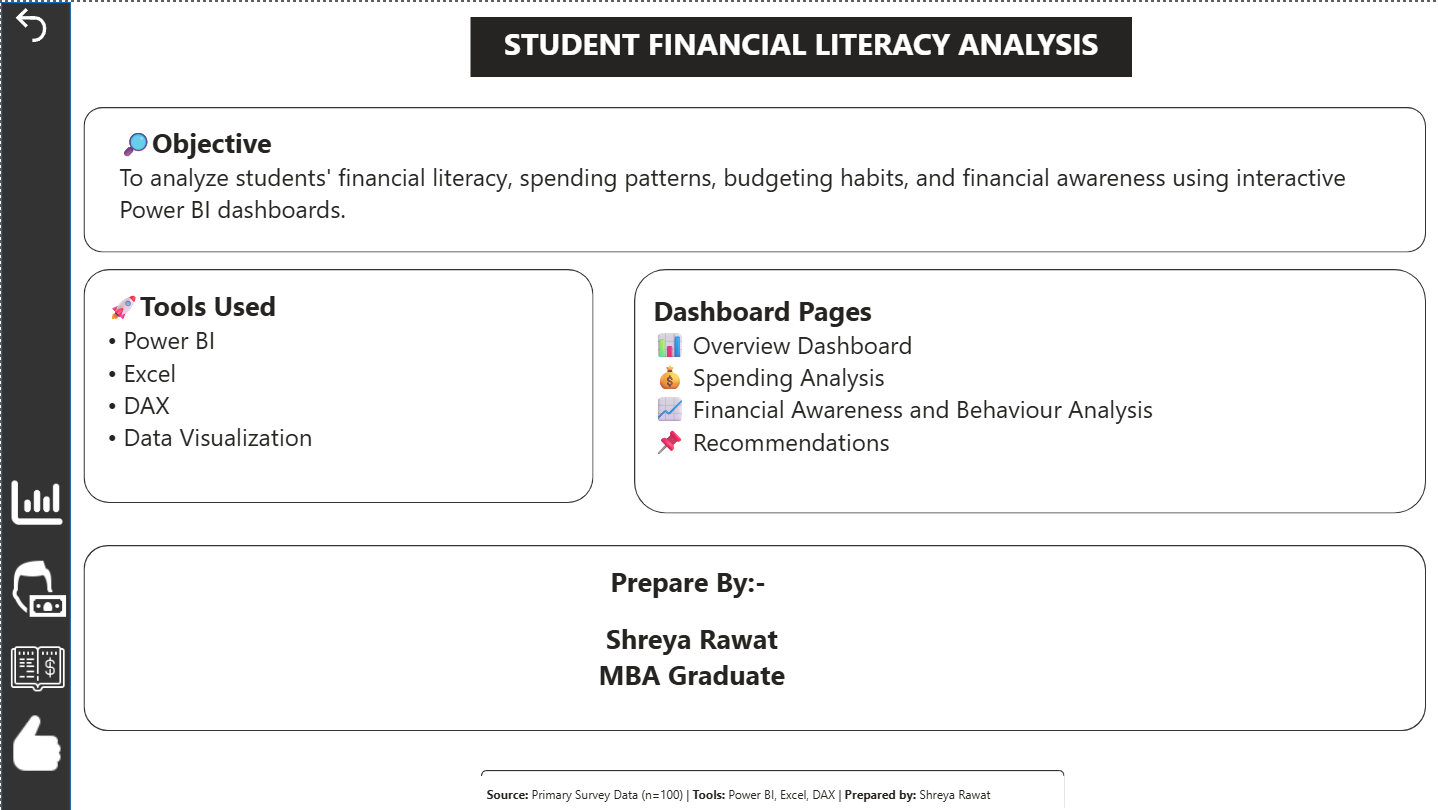

This screenshot's page, from the dashboard's own definition file:
{"tool":"powerbi","page":{"name":"Cover Page","canvas":[1280,720],"ordinal":0},"visuals":[{"type":"shape","box":[73.3,93.3,1193.3,129.3],"z":0},{"type":"shape","box":[0,0,62.1,719.2],"z":1000},{"type":"image","box":[8.2,564.1,49.5,56.1],"z":3000},{"type":"textbox","box":[100,102.7,1138.7,104],"z":6000},{"type":"textbox","box":[417.3,13.3,588,53.3],"z":7000},{"type":"shape","box":[562.7,237.3,704,217.3],"z":8000},{"type":"shape","box":[73.3,482.7,1193.3,165.3],"z":9000},{"type":"shape","box":[73.3,237.3,453.3,208],"z":9001},{"type":"textbox","box":[89.3,248,266.7,177.3],"z":9002},{"type":"textbox","box":[114.7,493.3,998.7,128],"z":9003},{"type":"textbox","box":[574.7,252,664,190.7],"z":9004},{"type":"shape","box":[427.2,682.4,518.7,37.6],"z":9005},{"type":"textbox","box":[427.2,687.4,518.7,32.6],"z":9006},{"type":"actionButton","box":[6.5,0,48.7,40.6],"z":9007},{"type":"image","box":[4.9,488.2,56.1,67.6],"z":9008},{"type":"image","box":[1.6,425.6,61,39.6],"z":9010},{"type":"image","box":[1.3,620,60,78.7],"z":9011}]}

Visuals, with their boxes on the page's 1280x720 design canvas (x1, y1, x2, y2). These are canvas units, not pixel positions in the 1438x810 screenshot, which may show the page scaled, cropped or inside an application window:
shape: (73,93,1267,223)
shape: (0,0,62,719)
image: (8,564,58,620)
textbox: (100,103,1239,207)
textbox: (417,13,1005,67)
shape: (563,237,1267,455)
shape: (73,483,1267,648)
shape: (73,237,527,445)
textbox: (89,248,356,425)
textbox: (115,493,1113,621)
textbox: (575,252,1239,443)
shape: (427,682,946,720)
textbox: (427,687,946,720)
actionButton: (6,0,55,41)
image: (5,488,61,556)
image: (2,426,63,465)
image: (1,620,61,699)
